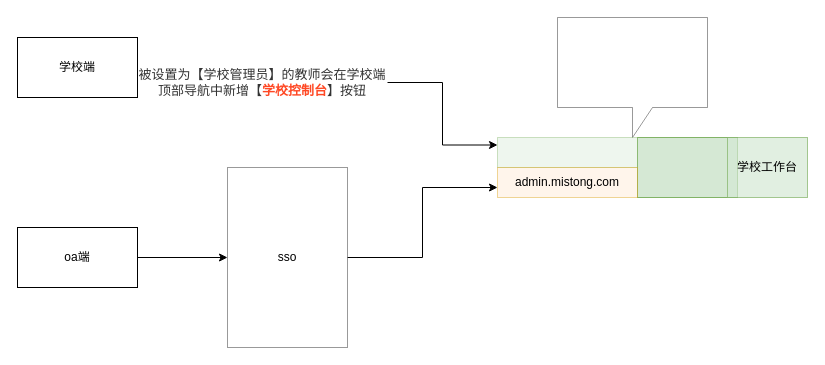
Image size: 825x365. Some labels were removed from this diagram. Here are the shapes that lost their labels. From the top down, the centre of each, then its label:
At pixel 632 77: "获取用户信息，如果不是管理员，则提示无权限访问".
At pixel 567 152: "web.ewt360.com".
At pixel 687 167: "学校管理系统".
